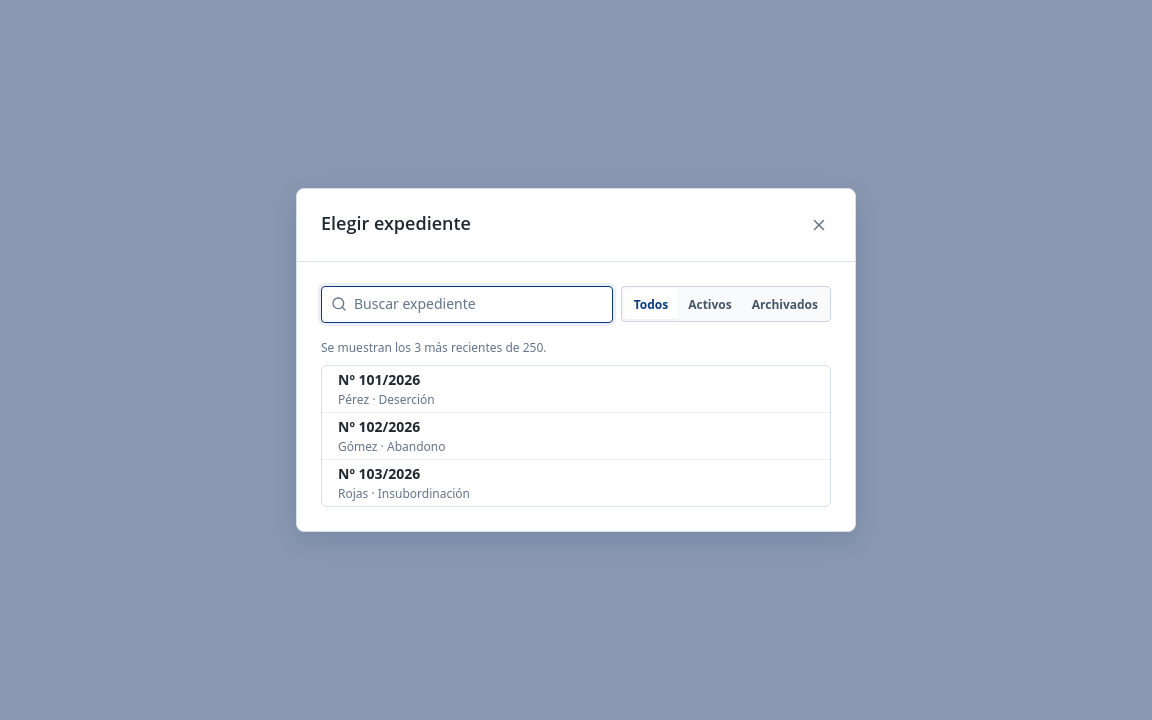
Scenario: SelectorModal › filtra por segmento y muestra vacío si no hay coincidencias
Click the radio button labelled "Archivados" at (785, 304), box left=742, top=289, right=828, bottom=319
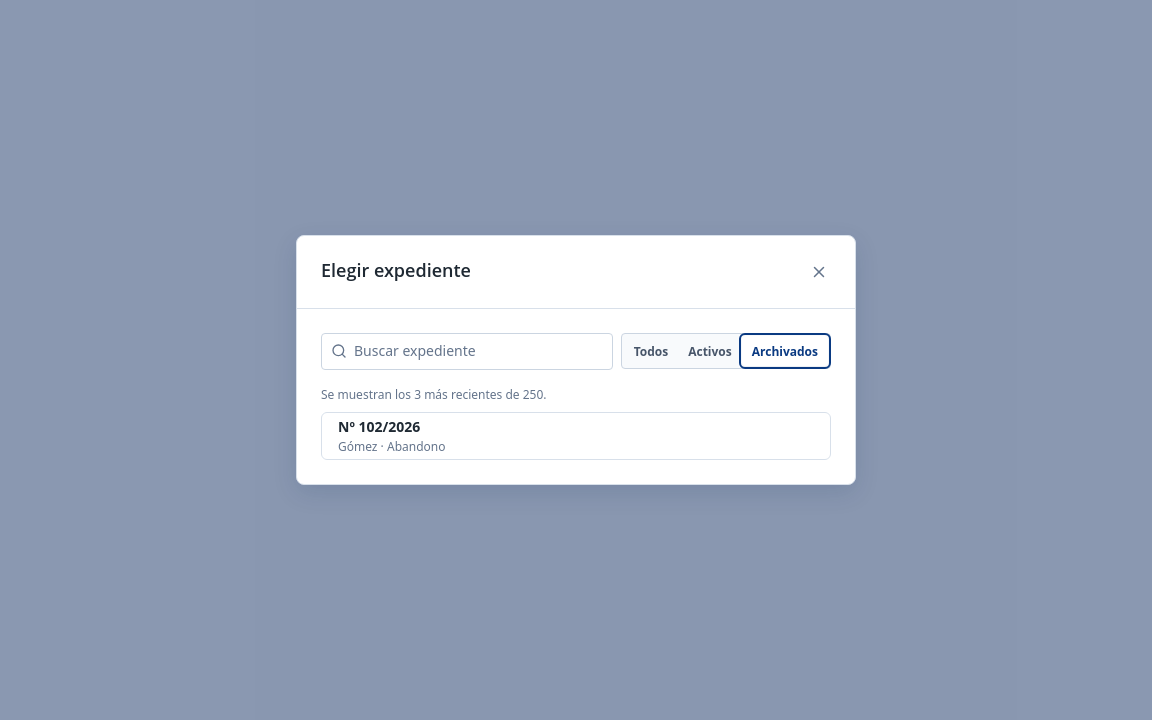
Type "rojas" into the search field labelled "Buscar expediente" at (467, 351), box left=321, top=333, right=613, bottom=370
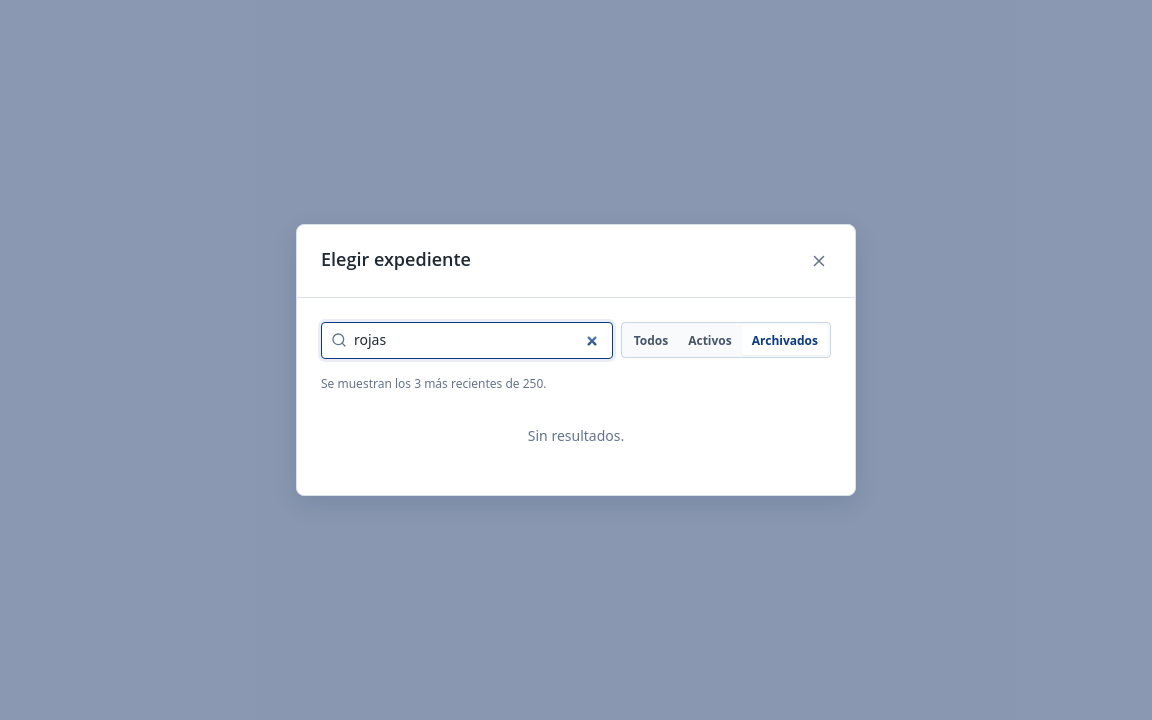
Now the text "Sin resultados." is shown, box left=528, top=426, right=624, bottom=445
